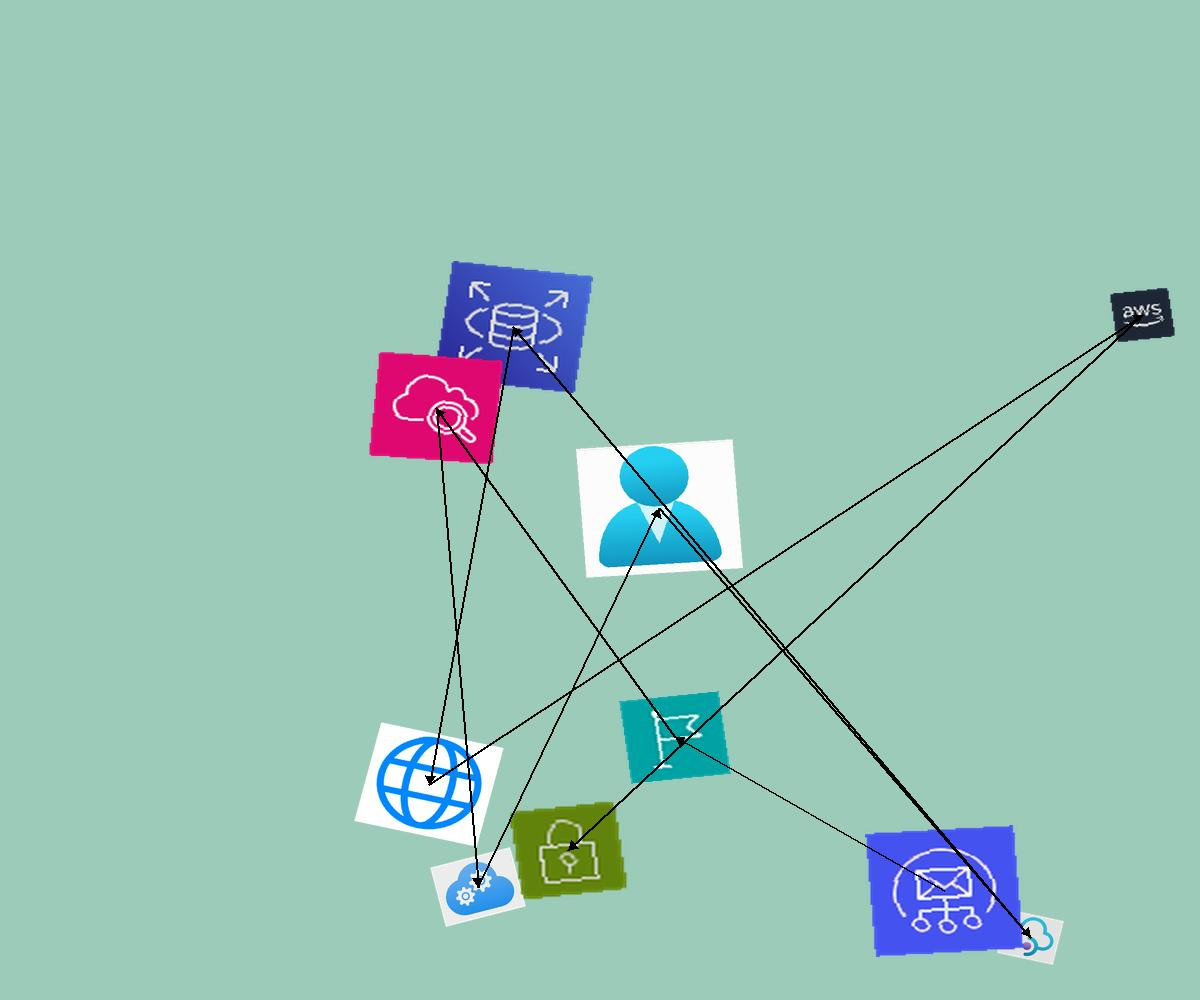AWS-Cloud-logo: (1109, 287, 1176, 343)
AWS-CloudWatch: (368, 351, 504, 465)
AWS-Public-subnet: (508, 800, 629, 901)
AWS-RDS: (434, 261, 593, 393)
AWS-Region: (619, 691, 731, 784)
AWS-Simple-Email-Service: (865, 825, 1024, 957)
Azure_api_gateway: (997, 909, 1064, 965)
Azure_cloud_services: (430, 847, 526, 927)
Azure_http: (354, 722, 504, 847)
Azure_users: (576, 439, 743, 578)
